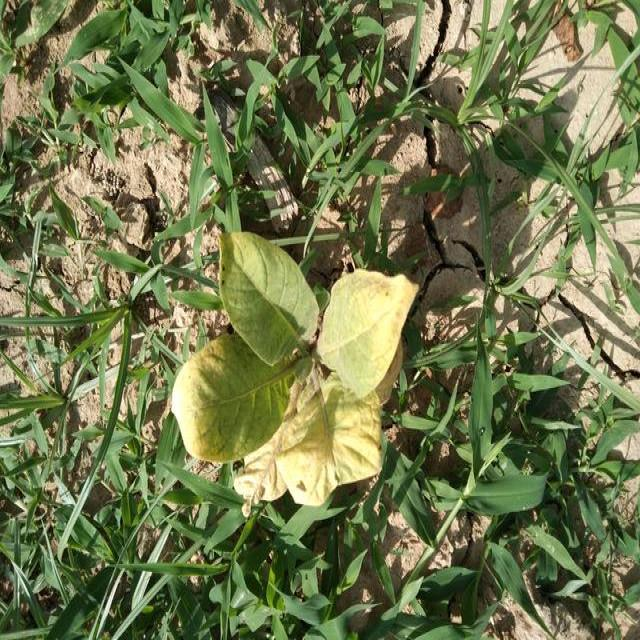crop: (175, 215, 409, 510)
